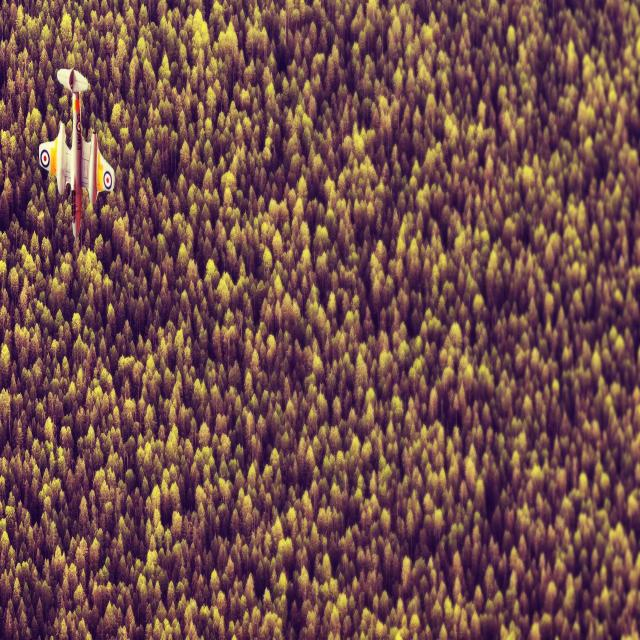airplane: (38, 66, 115, 240)
